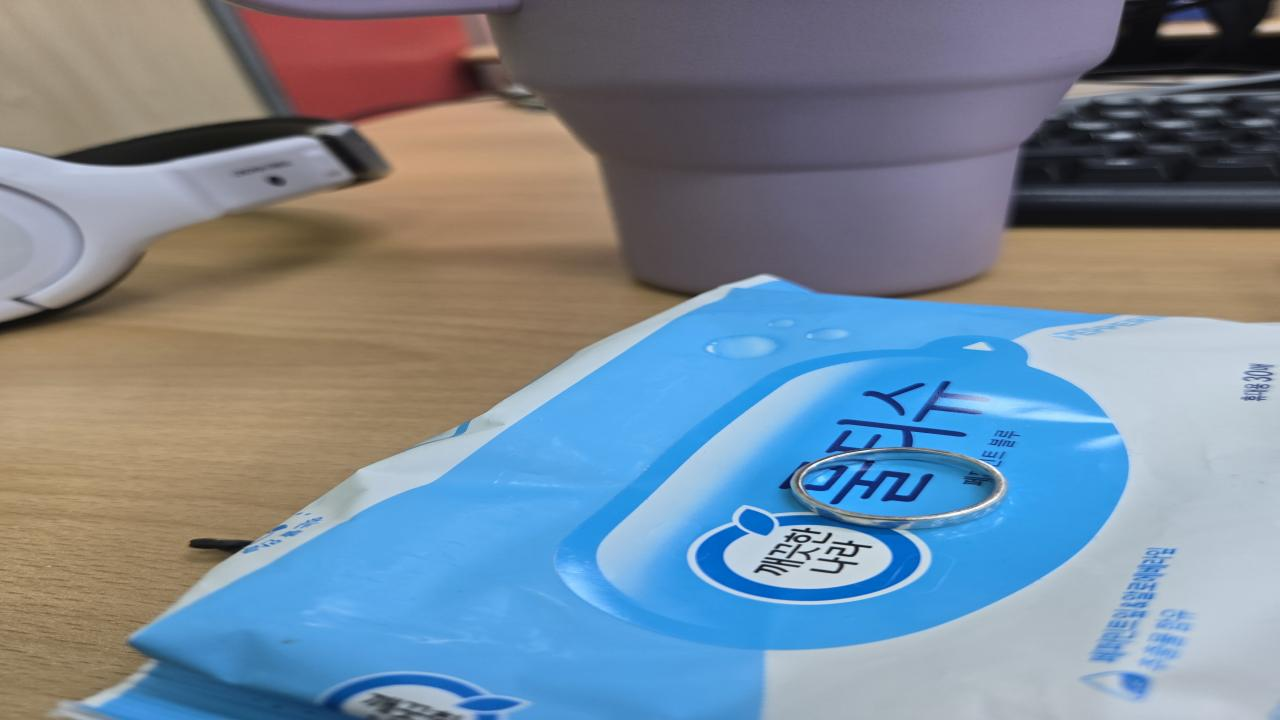ring: (789, 446, 1010, 533)
